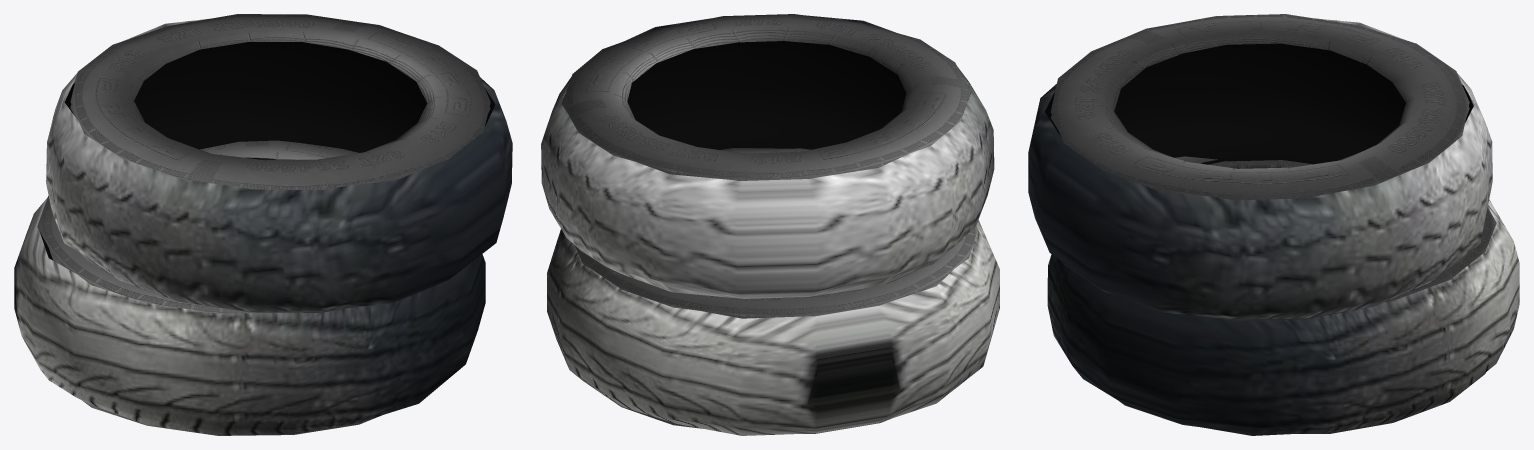
The model's file is tyre_stack.glb.
3 renders of one model, left to right at view 1: azimuth 30°, elevation 25°; view 2: azimuth 150°, elevation 25°; view 3: azimuth 270°, elevation 25°, orthographic. The views are drawn at different scales.
Visible parts, largest first — view 1: tyre.001; view 2: tyre.001; view 3: tyre.001.
Boxes of the visible parts, x1,y1,x2,y2 form: tyre.001: (14, 14, 512, 435); tyre.001: (541, 14, 999, 435); tyre.001: (1028, 14, 1519, 435).
Size of the model in its own units: 0.62 by 0.3714 by 0.6273.
3 materials, 2 textured.
